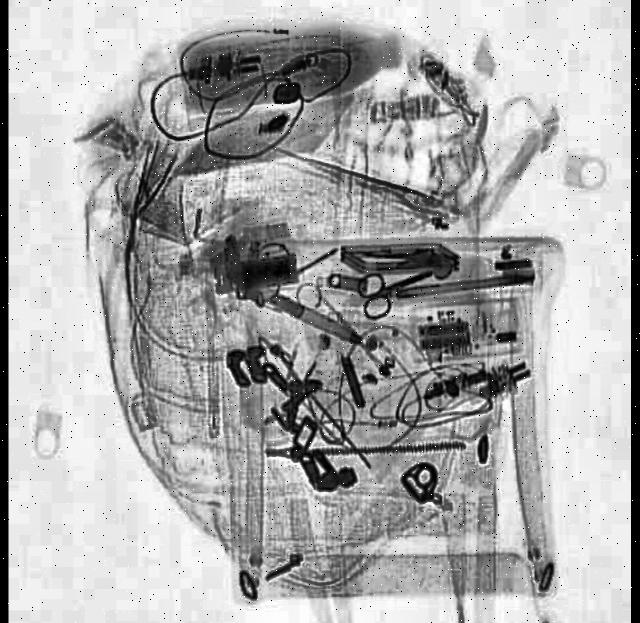Scissors: (353, 252, 438, 325)
